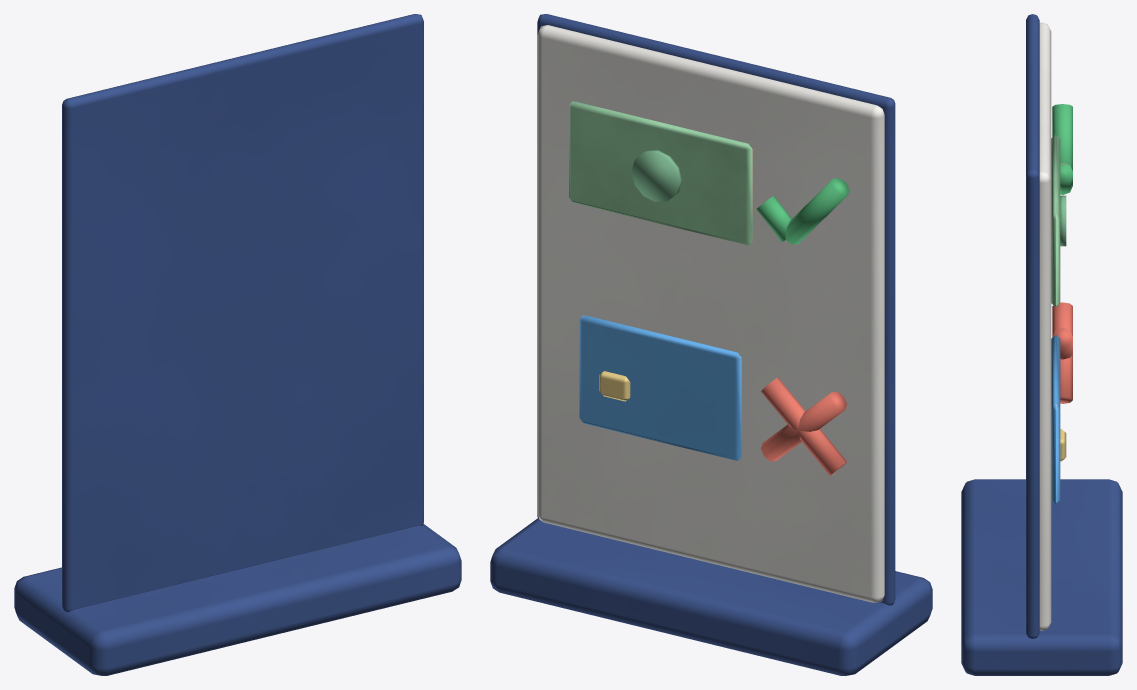
File: Maquininha_CounterSign.fbx
3 renders of one model, left to right at view 1: azimuth 30°, elevation 25°; view 2: azimuth 150°, elevation 25°; view 3: azimuth 270°, elevation 25°, orthographic. The views are drawn at different scales.
Parts seen in each view (by area): view 1: Maquininha_CounterSign; view 2: Maquininha_CounterSign; view 3: Maquininha_CounterSign.
Boxes of the visible parts, x1,y1,x2,y2 form: Maquininha_CounterSign: (14, 14, 461, 675); Maquininha_CounterSign: (490, 14, 932, 675); Maquininha_CounterSign: (961, 14, 1122, 675).
Size of the model in its own units: 0.17 by 0.2425 by 0.07.
Materials: 1 (1 with a texture image).
